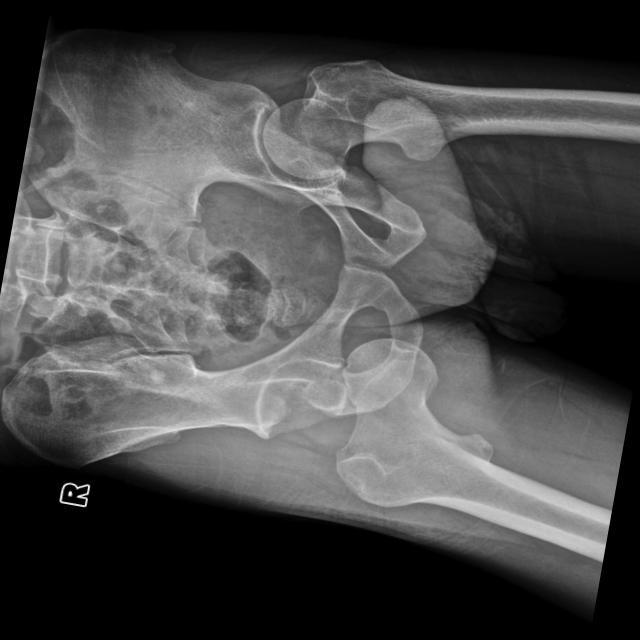normal-left: (262, 58, 531, 177)
right-dislocation: (336, 338, 612, 561)
